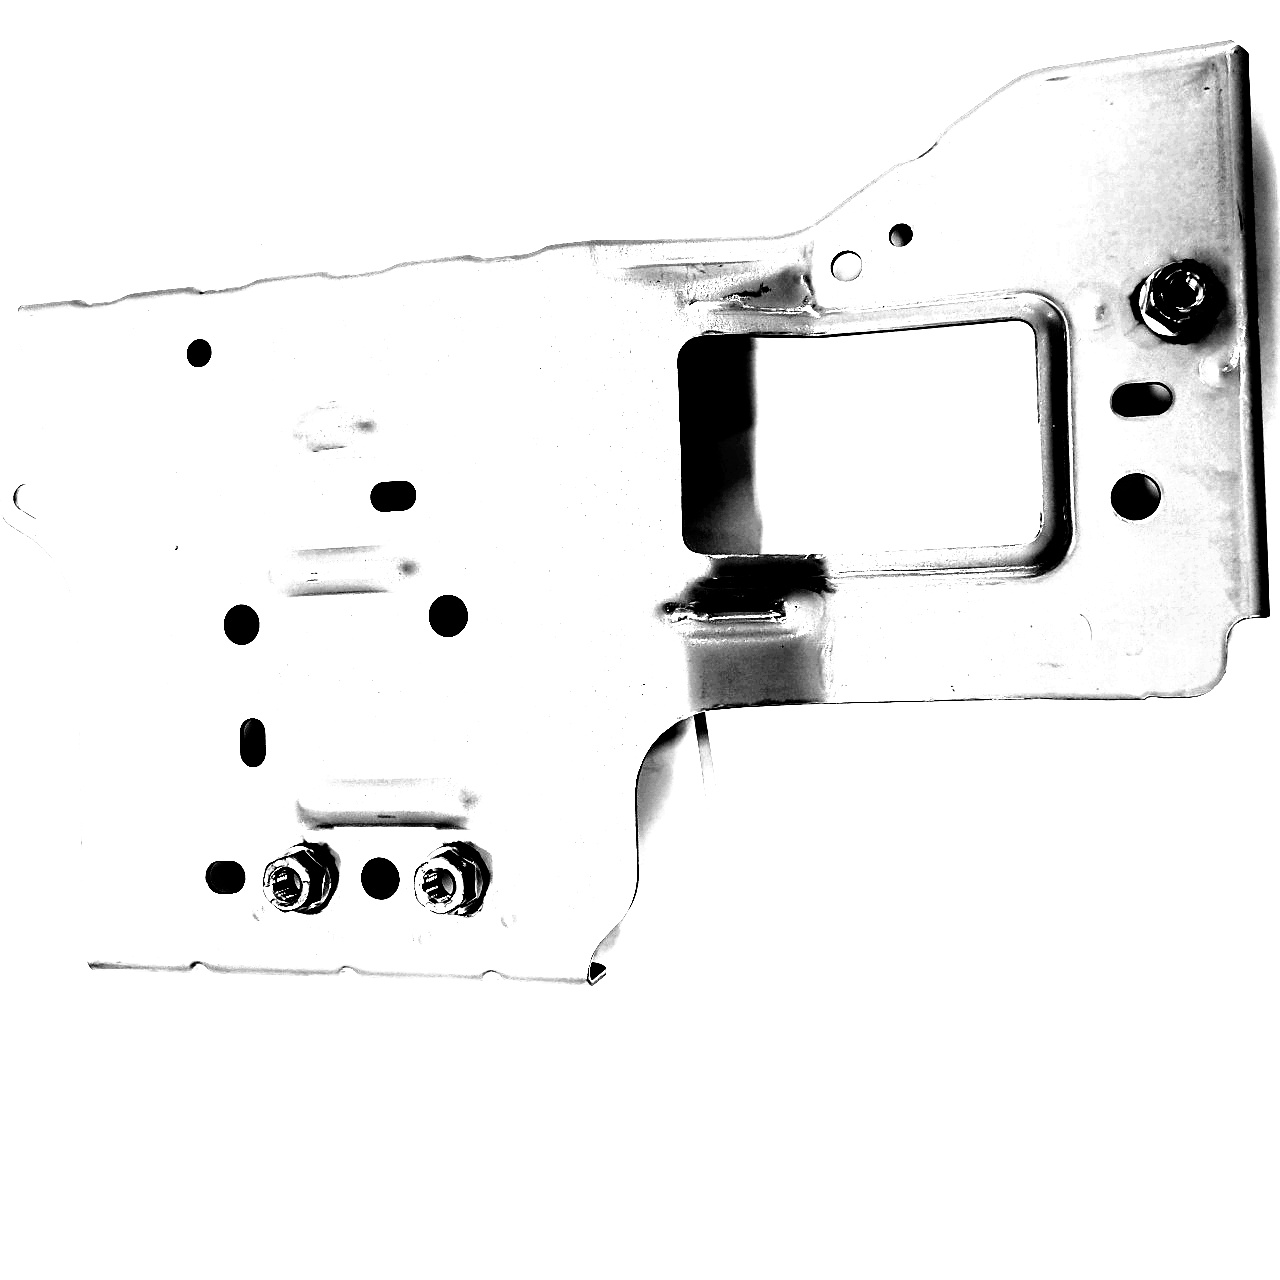dog: (1126, 254, 1223, 348), (407, 836, 490, 921), (258, 838, 341, 919)
